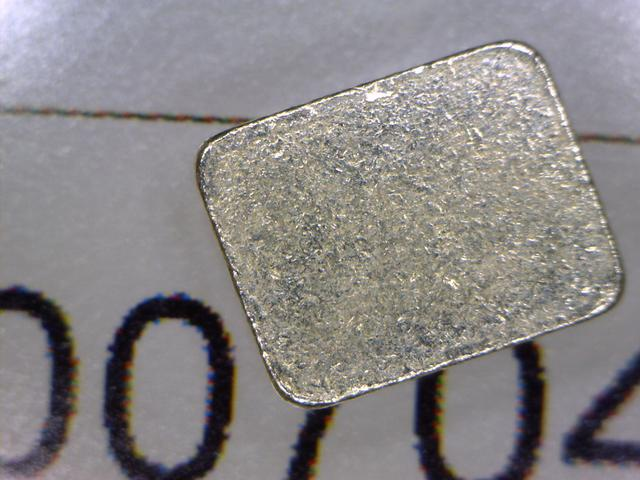ok: (174, 26, 635, 410)
